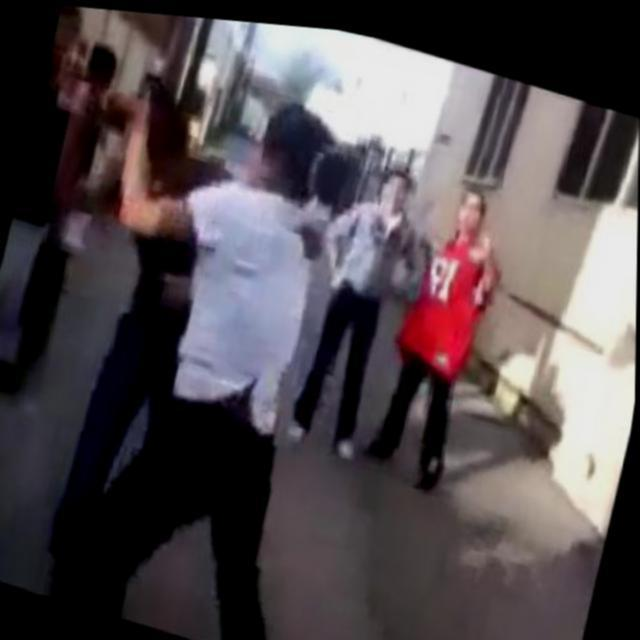fight: (37, 49, 340, 640)
